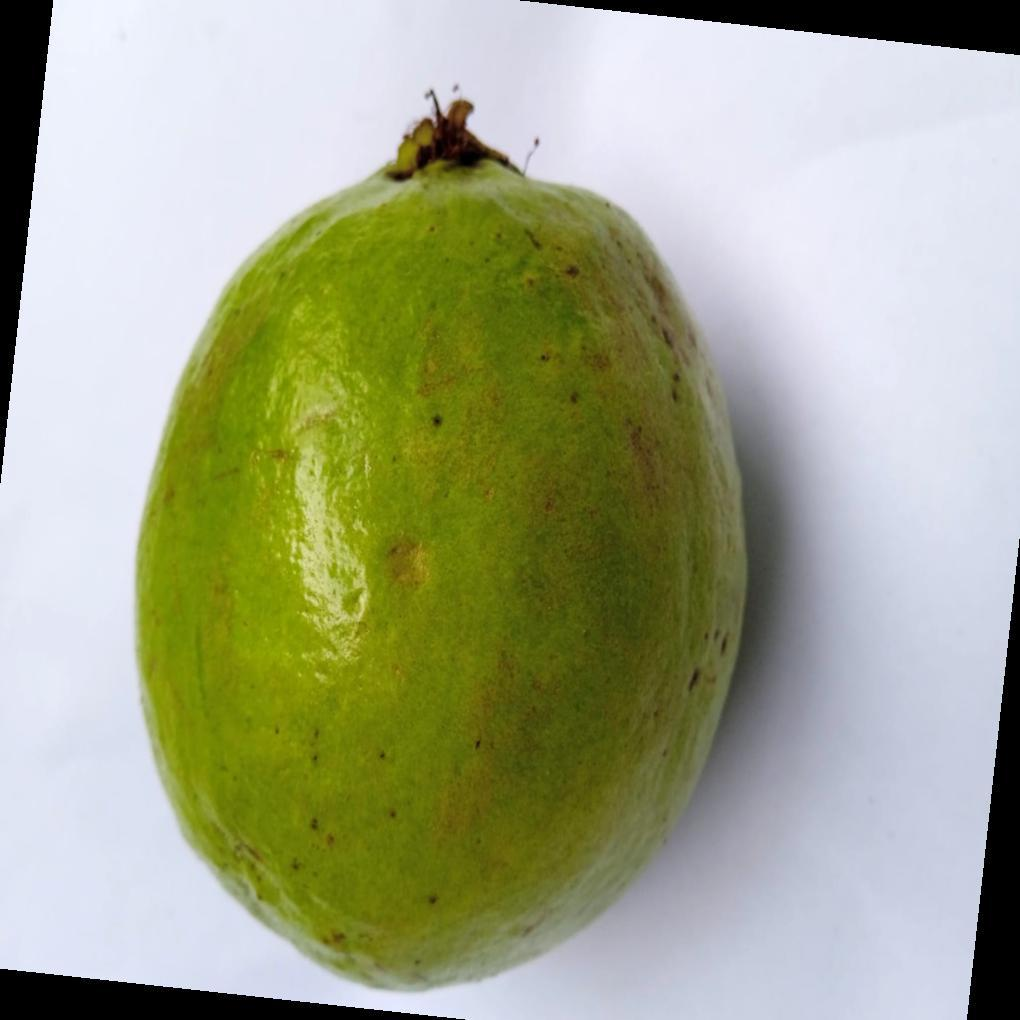FreshGuava: (132, 100, 751, 997)
